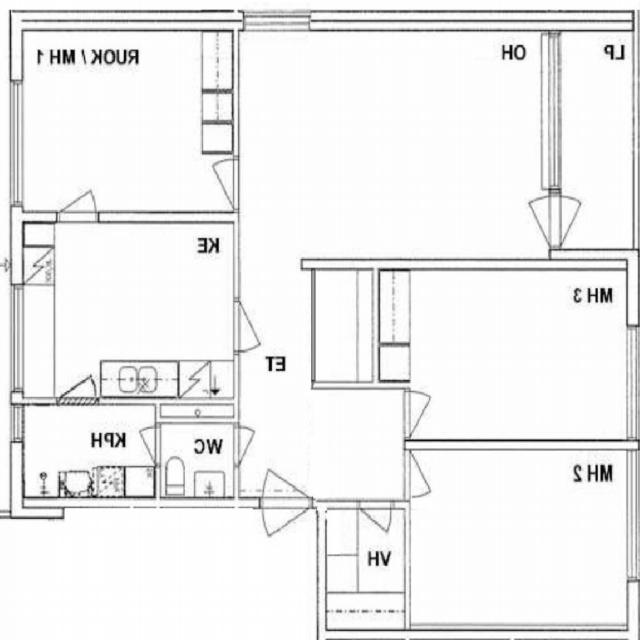door: (263, 498, 313, 567), (263, 438, 313, 507), (548, 196, 604, 246), (507, 196, 562, 246), (234, 301, 282, 350), (192, 160, 240, 208), (58, 167, 95, 222), (404, 392, 448, 437), (404, 453, 448, 497), (59, 354, 96, 404), (233, 428, 272, 466), (361, 498, 391, 544), (125, 428, 162, 464)
